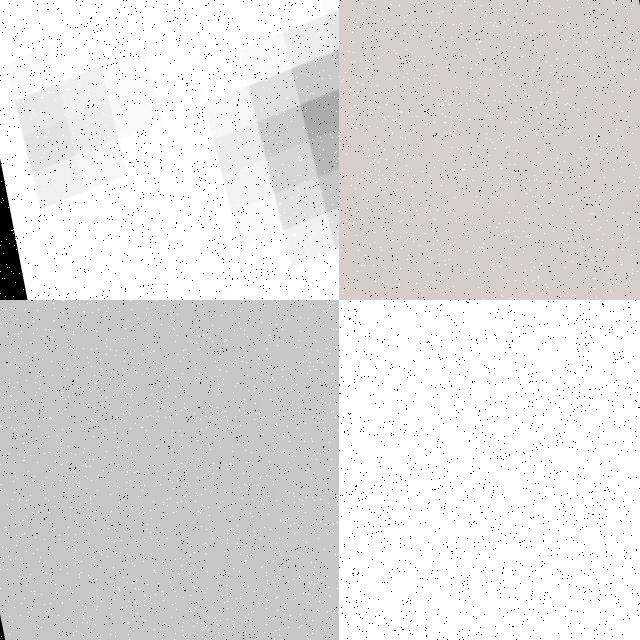drone: (0, 0, 339, 300)
